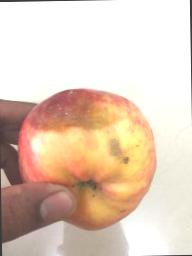Apple Overripe: (20, 83, 160, 232)
